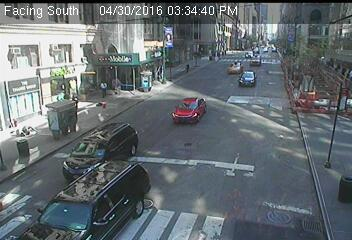neg: (9, 124, 34, 157), (46, 103, 64, 127)
pos: (95, 79, 110, 99)
